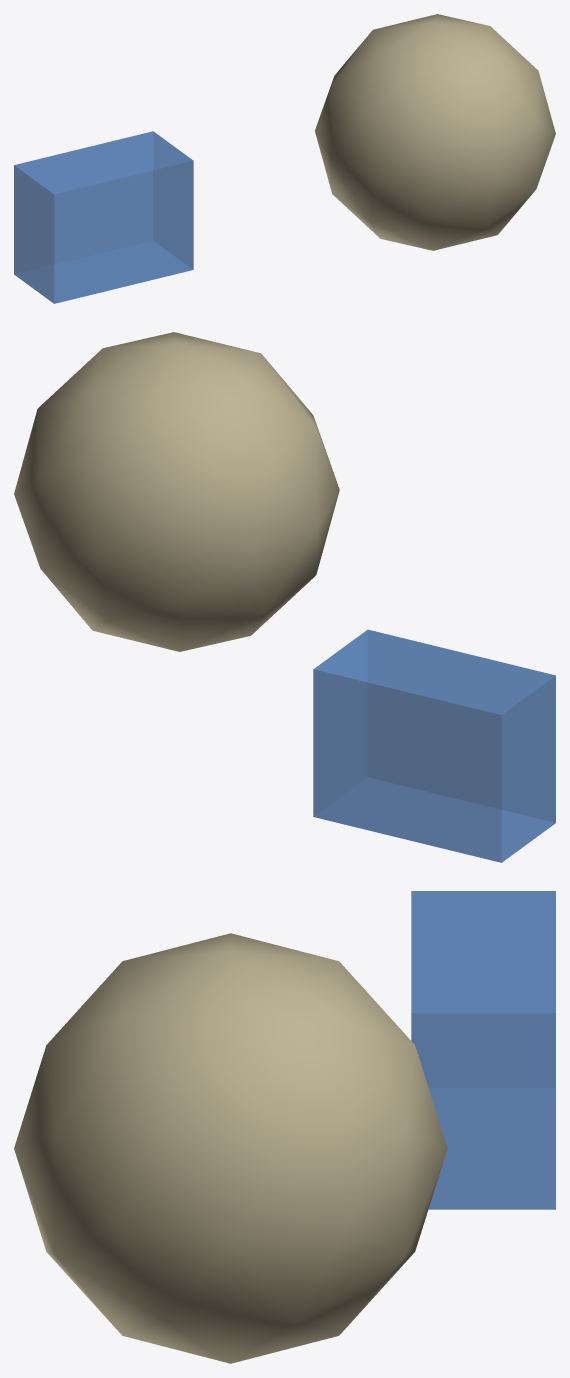
3 views of the same model, one above another, from view 1: azimuth 30°, elevation 25°; view 2: azimuth 150°, elevation 25°; view 3: azimuth 270°, elevation 25° (orthographic). The views are drawn at different scales.
Parts seen in each view (by area): view 1: Bone_ball, Guide_block; view 2: Bone_ball, Guide_block; view 3: Bone_ball, Guide_block.
Part boxes in pixels (left/top/right/bottom): Bone_ball: left=315, top=14, right=555, bottom=250; Guide_block: left=14, top=131, right=193, bottom=303; Bone_ball: left=14, top=332, right=339, bottom=651; Guide_block: left=313, top=629, right=555, bottom=862; Bone_ball: left=14, top=933, right=447, bottom=1363; Guide_block: left=411, top=891, right=555, bottom=1209.
Bounding box in the file's own units: 25 × 13 × 15.
